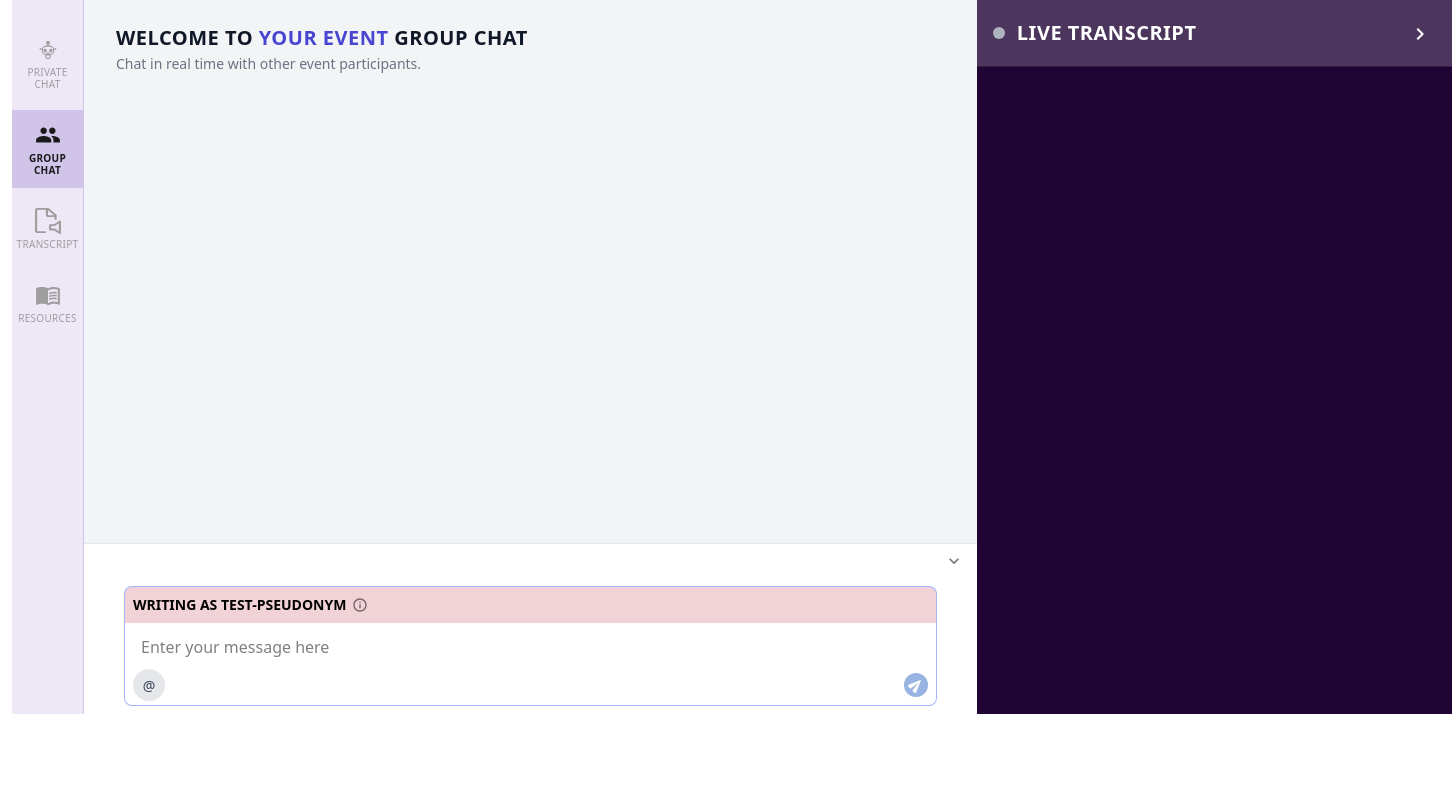
Test case: EventAssistantRoom › pseudonym fun fact › passes fun fact to chat panel when active pseudonym has funFact
Step 1. Click the button named "Pseudonym info" → (360, 605), box [350,595,370,615]
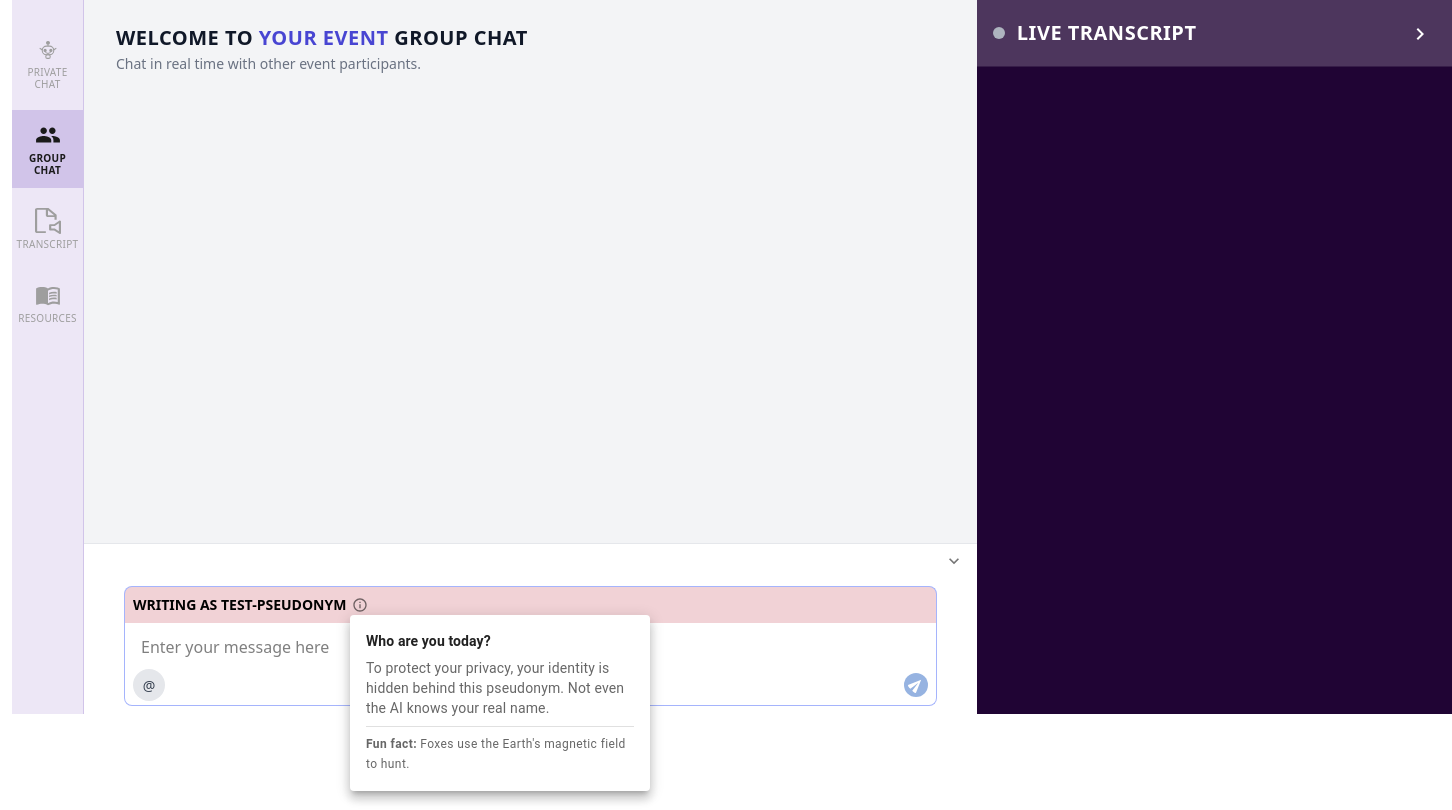
Check: the text "Fun fact: Foxes use the Earth's magnetic field to hunt." is shown, box [366,726,634,775]
